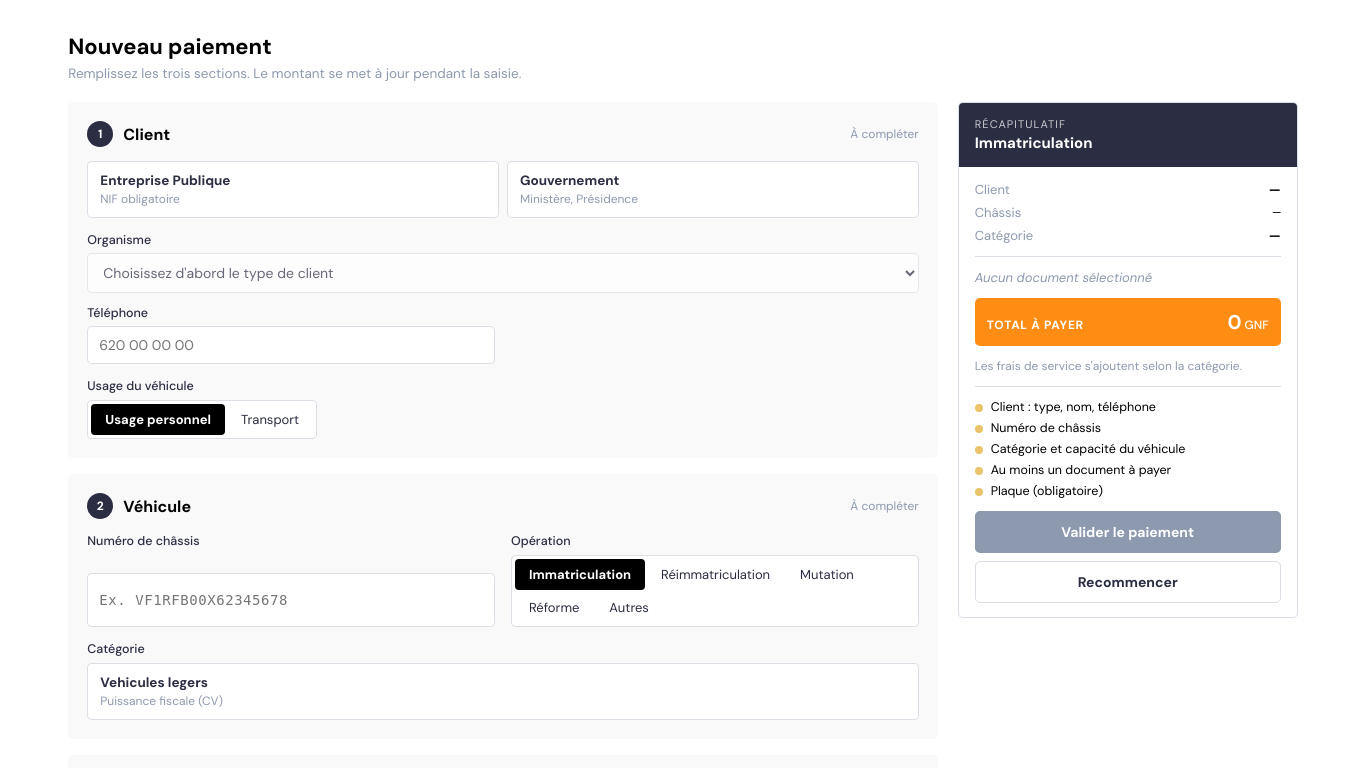
Test: Formulaire de nouveau paiement › Mutation et réforme › refuse un châssis qui n'a pas servi à une immatriculation
Click the radio button labelled "Mutation".
click(827, 574)  # box [800,566,854,583]
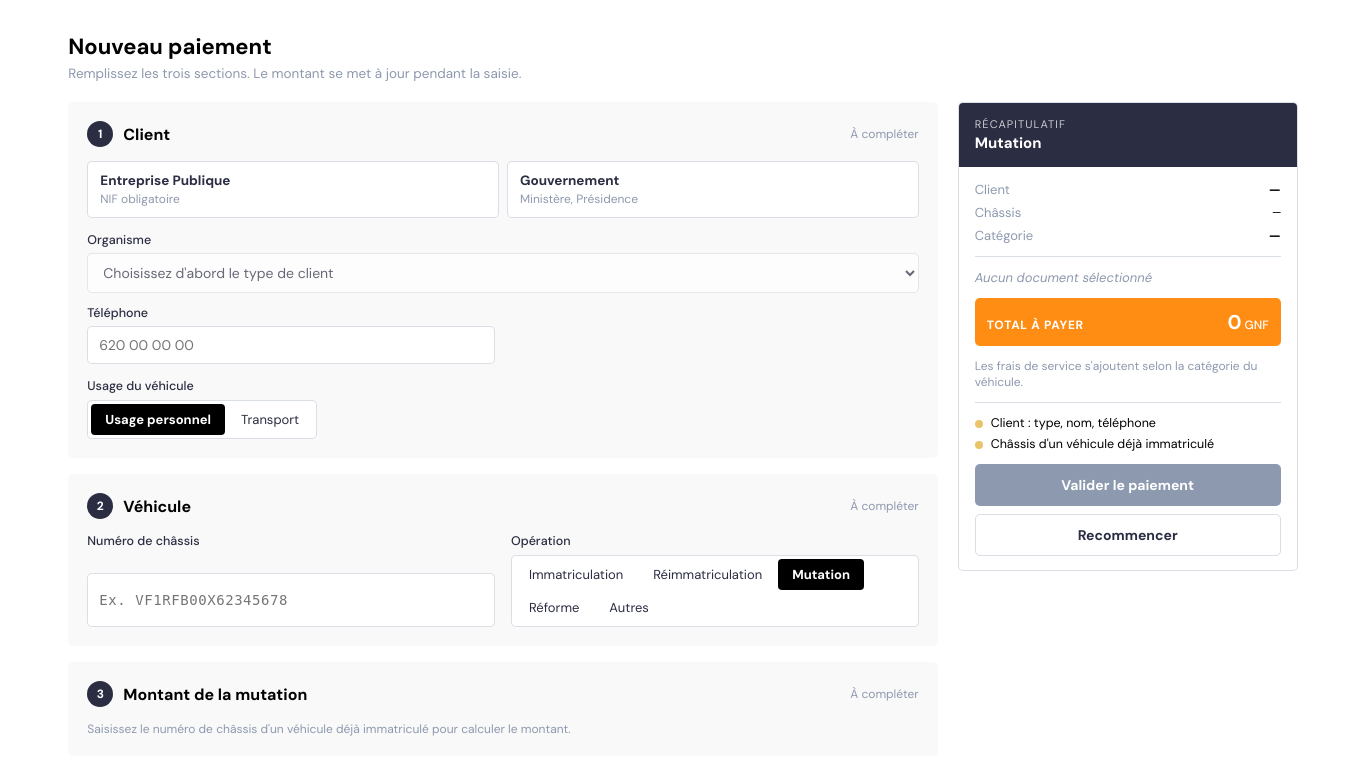
Type "jtmhv02j104242881" into the field labelled "Numéro de châssis".
click(291, 600); type("jtmhv02j104242881")  # box [87,572,495,627]
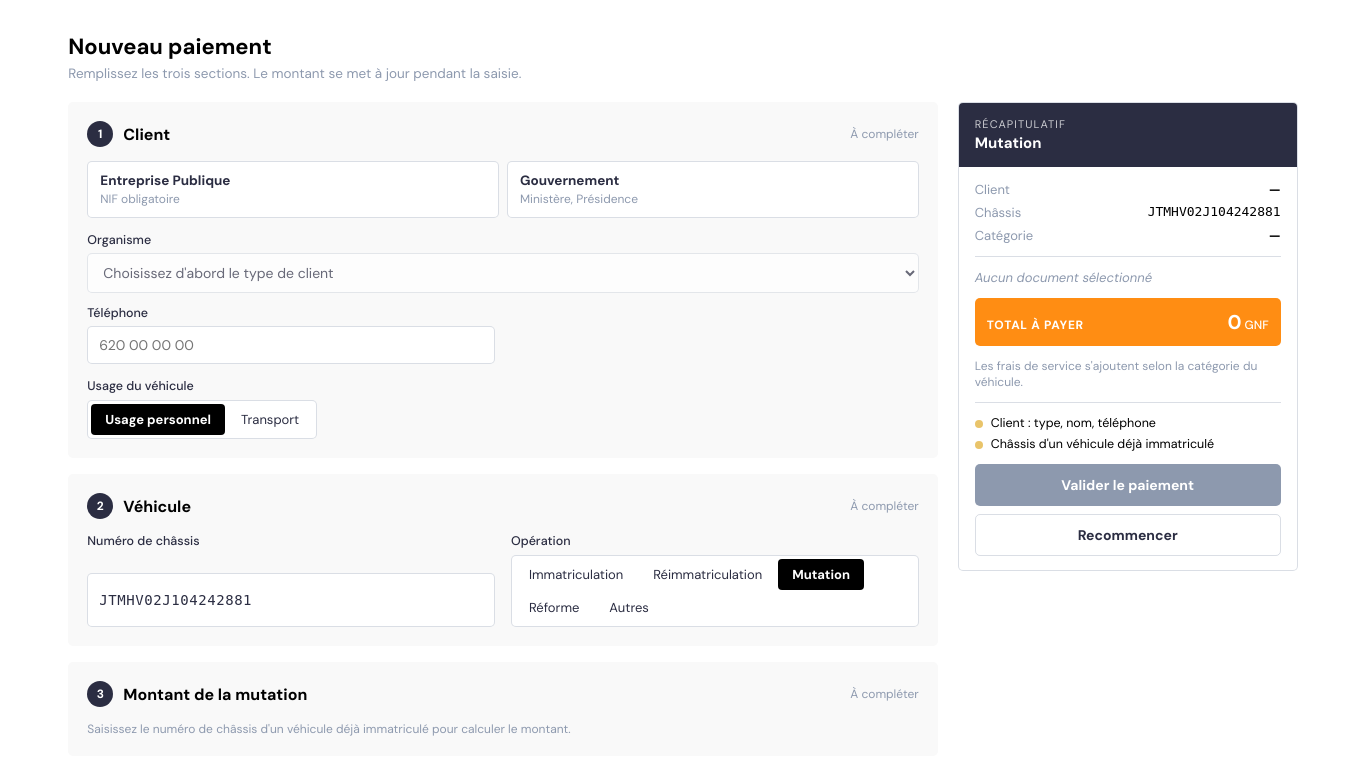
Leave the field labelled "Numéro de châssis", box [87,572,495,627]
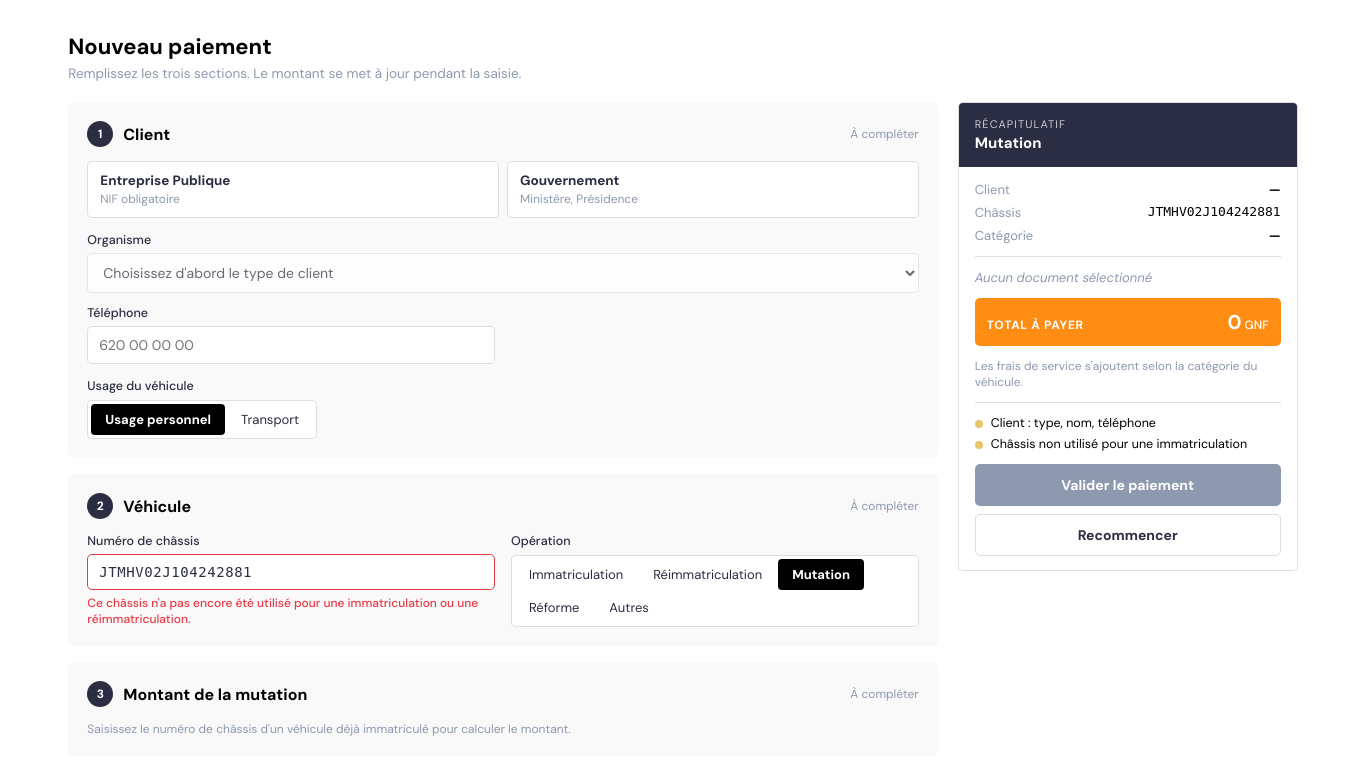
Expected: the button "Valider le paiement" is disabled, [975,464,1281,506]
Expected: the text "n'a pas encore été utilisé" is shown, [87,595,478,627]
